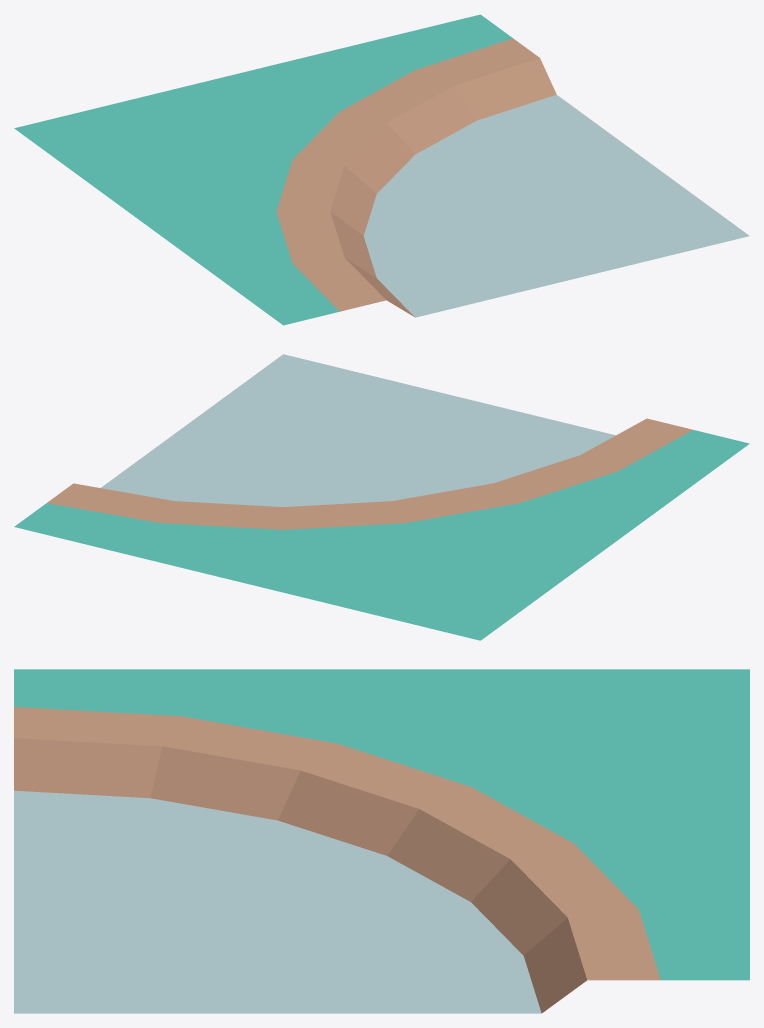
The model's file is ground_riverCorner.glb.
3 renders of one model, top to bottom at view 1: azimuth 30°, elevation 25°; view 2: azimuth 150°, elevation 25°; view 3: azimuth 270°, elevation 25°, orthographic. The views are drawn at different scales.
Visible parts, largest first — view 1: ground_riverCorner; view 2: ground_riverCorner; view 3: ground_riverCorner.
Boxes of the visible parts, <box> form: ground_riverCorner: <box>14,14,749,325</box>; ground_riverCorner: <box>14,354,749,640</box>; ground_riverCorner: <box>14,669,749,1013</box>.
Size of the model in its own units: 1 by 0.05 by 1.
